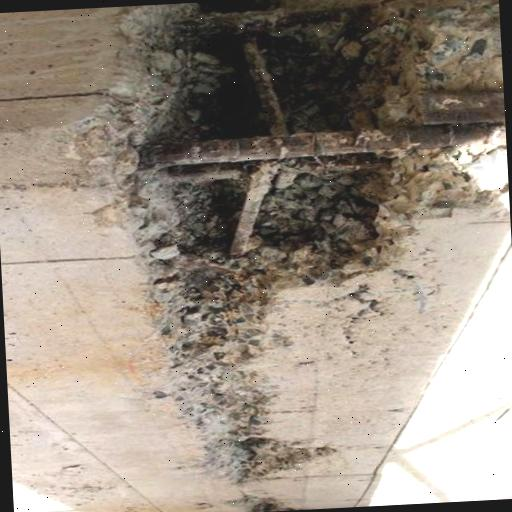spalling: (75, 0, 498, 483)
